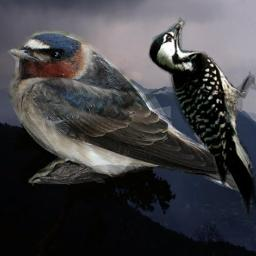Swallow: (3, 29, 254, 194)
Woodpecker: (147, 17, 256, 218)
